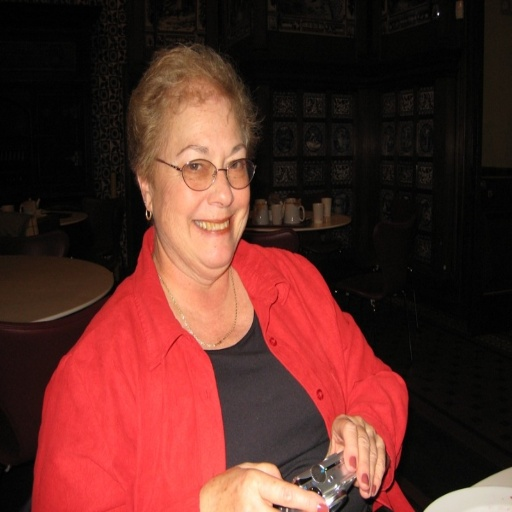hand: (199, 458, 330, 510), (321, 413, 385, 501)
